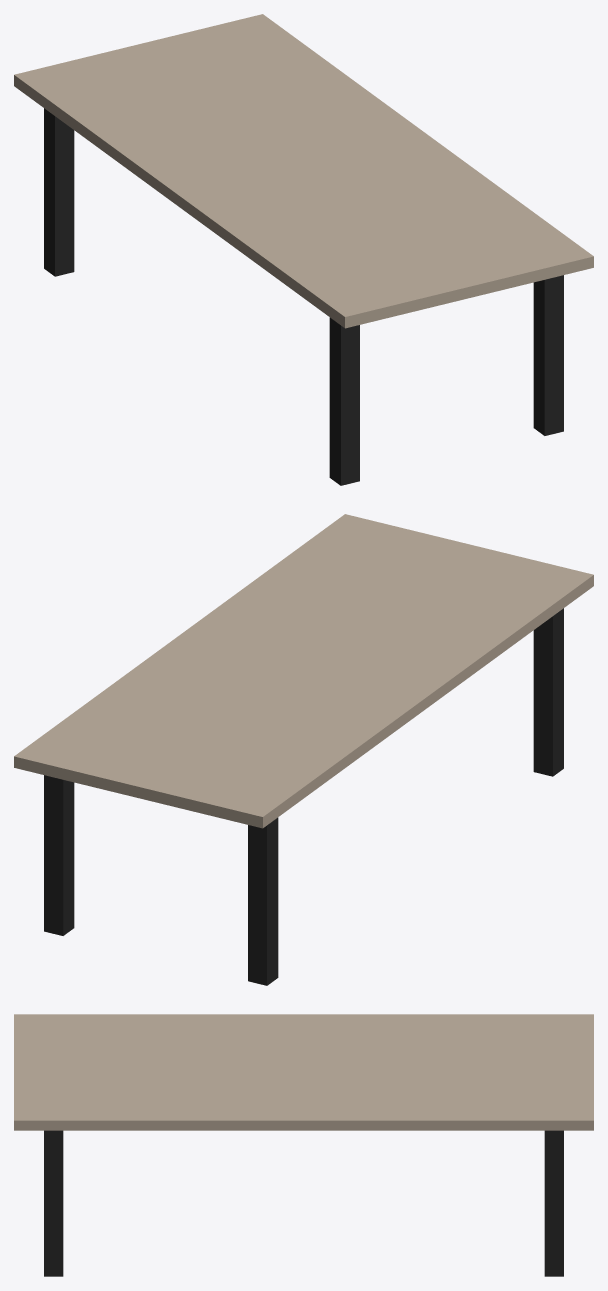
The model's file is GrandeTable_33.fbx.
3 renders of one model, top to bottom at view 1: azimuth 30°, elevation 25°; view 2: azimuth 150°, elevation 25°; view 3: azimuth 270°, elevation 25°, orthographic. The views are drawn at different scales.
Visible parts, largest first — view 1: pCube79, pCube77, pCube75, pCube78; view 2: pCube79, pCube75, pCube77, pCube76; view 3: pCube79, pCube78, pCube76.
Boxes of the visible parts, left/top/right/bottom form: pCube79: left=14, top=14, right=593, bottom=328; pCube77: left=329, top=317, right=359, bottom=485; pCube75: left=44, top=108, right=74, bottom=276; pCube78: left=533, top=275, right=563, bottom=435; pCube79: left=14, top=514, right=593, bottom=828; pCube75: left=248, top=817, right=278, bottom=985; pCube77: left=533, top=608, right=563, bottom=776; pCube76: left=44, top=775, right=74, bottom=935; pCube79: left=14, top=1014, right=593, bottom=1130; pCube78: left=44, top=1130, right=63, bottom=1276; pCube76: left=544, top=1130, right=563, bottom=1276.
Size of the model in its own units: 53.95 by 38.21 by 124.
